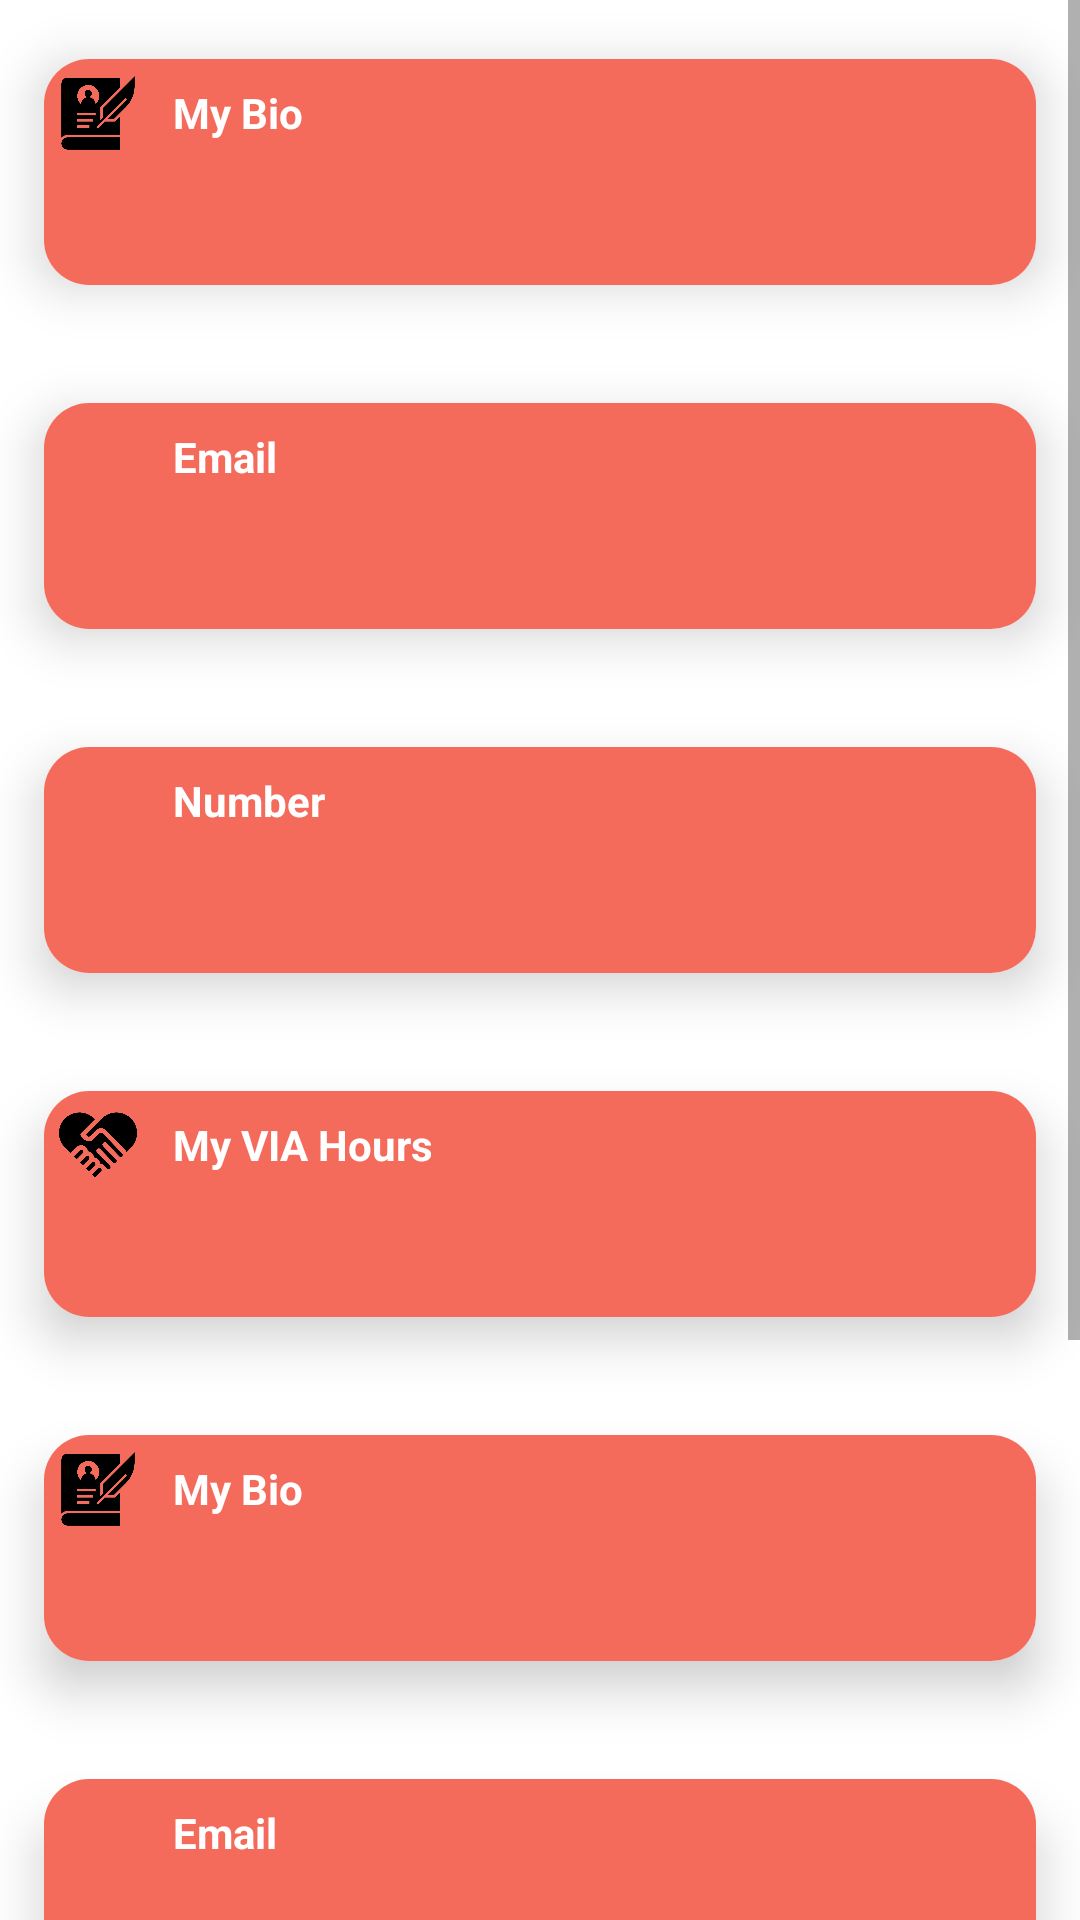

Screen size 1080w x 1920h. Icon name, then its box in pixels as detection(x1, y1, x2, y2):
biography: detection(61, 76, 135, 150), detection(61, 1452, 135, 1526)
help: detection(59, 1112, 137, 1177)
